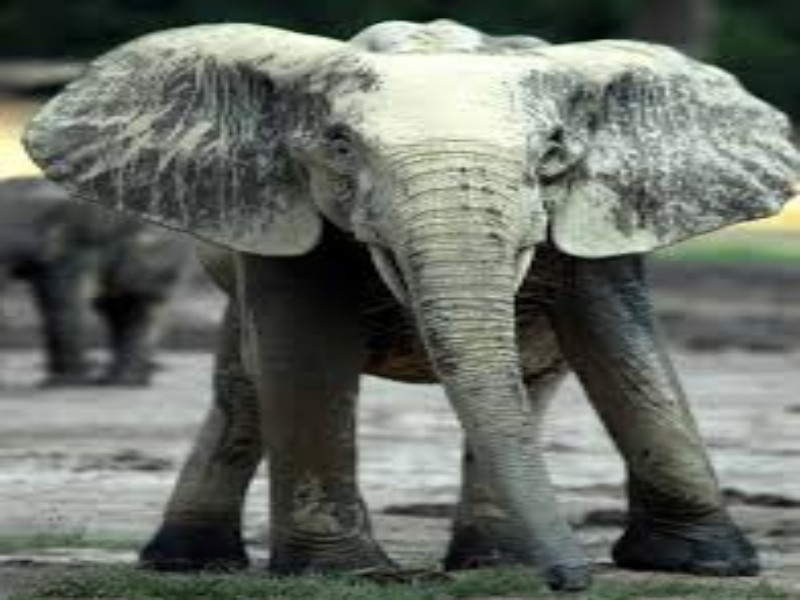elephant: (19, 1, 796, 593)
